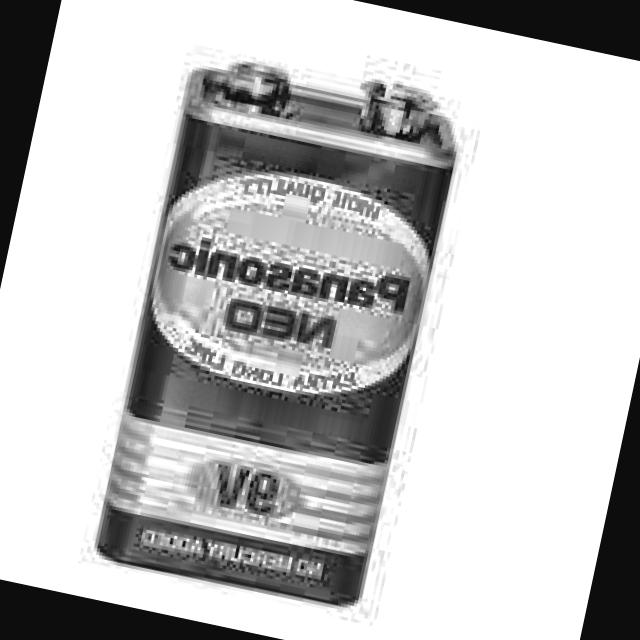Battery: (92, 42, 464, 610)
